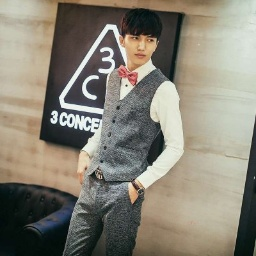face: (117, 6, 167, 64)
